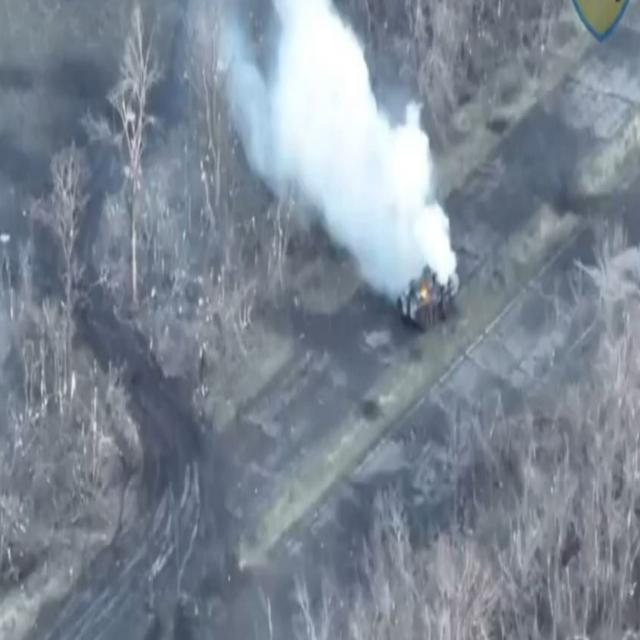destroyed: (397, 262, 452, 333)
